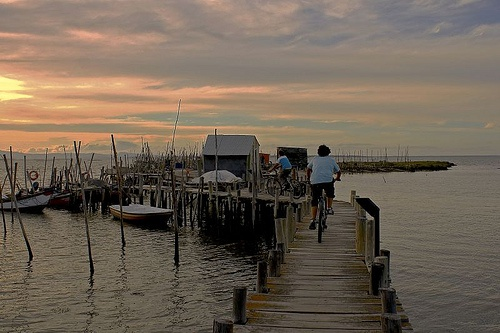non-vehicle: (269, 166, 305, 199), (314, 189, 328, 243)
